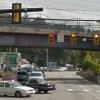Traffic light: (40, 25, 100, 51)
